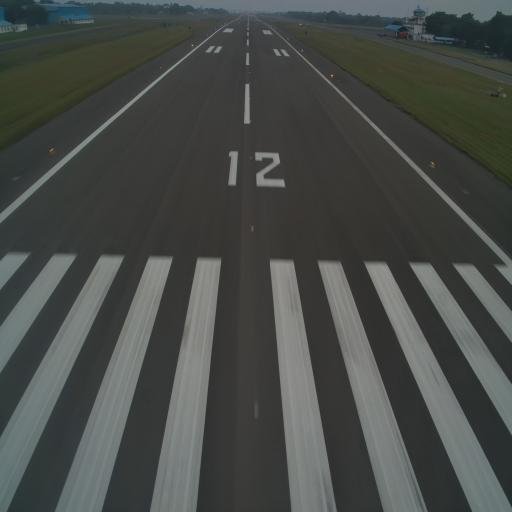on: (249, 395, 261, 422), (48, 145, 55, 154), (430, 159, 435, 168), (250, 223, 254, 233), (248, 155, 252, 161), (249, 119, 252, 125), (248, 96, 251, 101), (331, 73, 333, 79), (160, 66, 162, 71), (248, 82, 250, 87)
